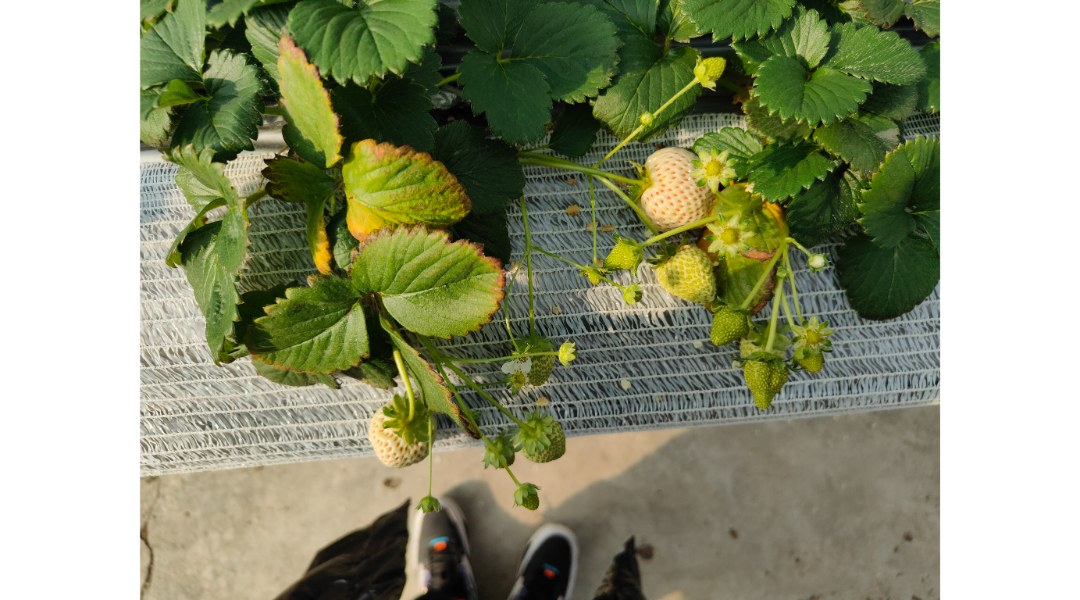berry: (626, 144, 724, 230), (363, 392, 438, 477), (650, 241, 724, 312), (744, 335, 795, 419), (511, 333, 563, 393), (706, 294, 752, 358), (514, 415, 557, 470), (792, 321, 831, 377), (469, 428, 510, 474), (693, 153, 742, 190), (599, 233, 645, 271), (693, 54, 733, 95), (510, 470, 543, 514), (806, 247, 838, 280), (408, 495, 452, 517), (559, 340, 576, 381), (580, 269, 611, 288), (645, 111, 665, 137), (621, 283, 643, 302)
strain: (604, 83, 697, 161), (748, 248, 778, 300), (768, 287, 789, 359), (515, 177, 535, 242), (787, 265, 805, 327), (547, 251, 592, 275), (586, 182, 600, 258), (526, 257, 536, 331), (792, 240, 807, 261)
